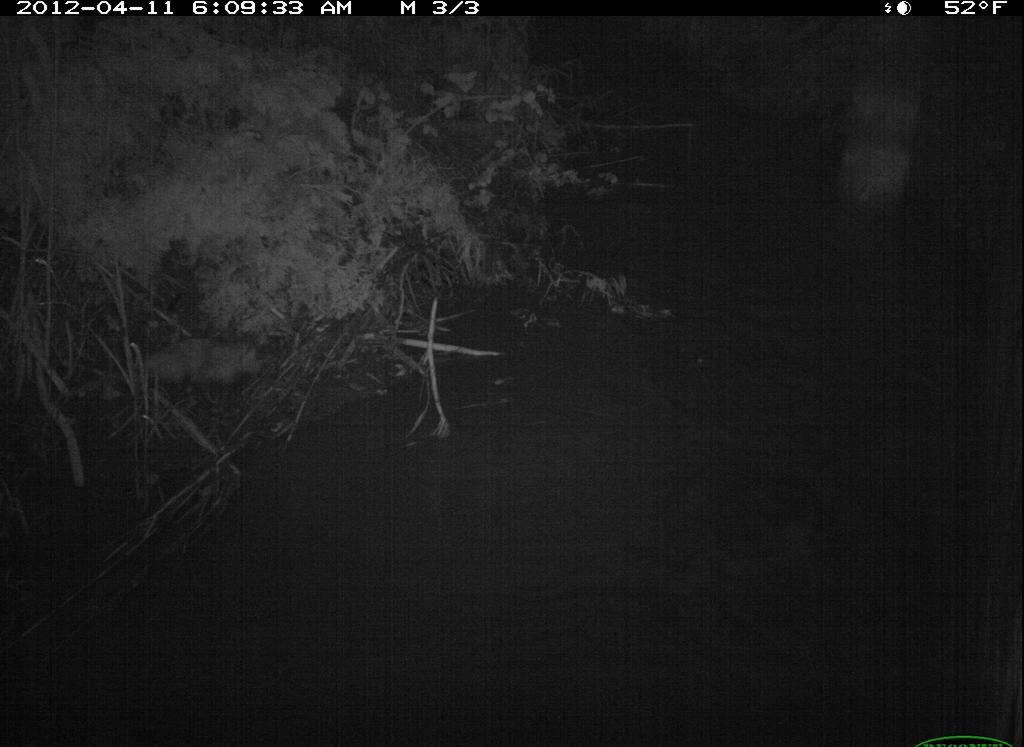opossum: (84, 322, 283, 407)
